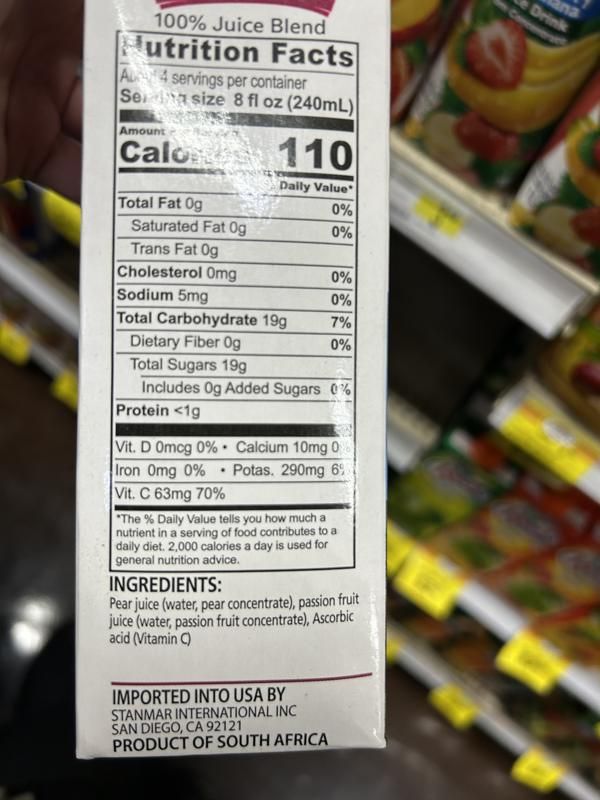ingredients: (106, 575, 363, 648)
